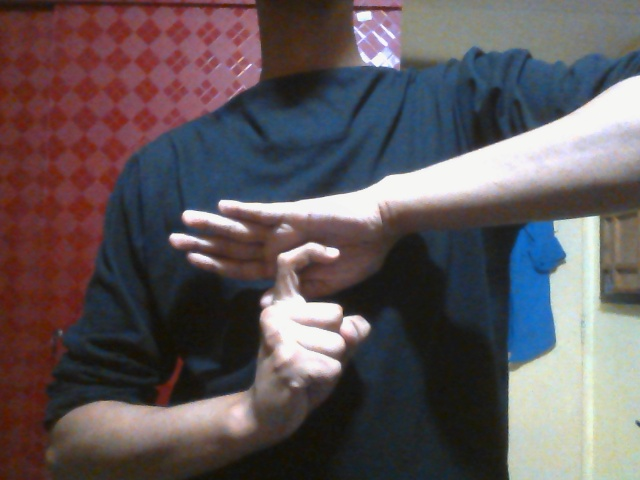R: (165, 186, 394, 428)
